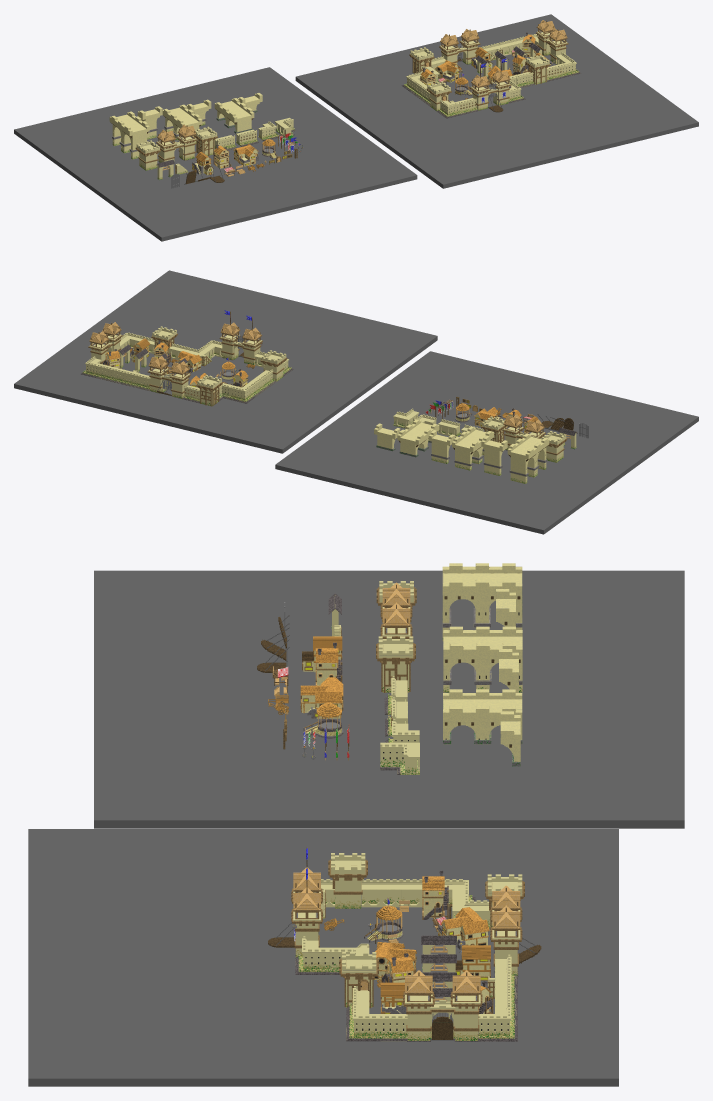
The model's file is Medieval_Voxel_Assets_Example.glb.
The picture shows the model from 3 angles, top to bottom: view 1: azimuth 30°, elevation 25°; view 2: azimuth 150°, elevation 25°; view 3: azimuth 270°, elevation 25°; orthographic projection. The views are drawn at different scales.
Parts seen in each view (by area): view 1: Complete Example, Cube, Bridge_Big_Body, Wall_Entrance, Bridge_Low_Body, Bridge_Medium_Body, Tower_Simple, Tower_Complex, Bridge_Big_In_Out, House_1; view 2: Complete Example, Cube, Bridge_Big_Body, Bridge_Medium_Body, Bridge_Low_Body, Wall_Entrance, Bridge_Big_In_Out, Bridge_Medium_In_Out, Tower_Simple, Bridge_Low_In_Out, Tower_Complex; view 3: Complete Example, Cube, Bridge_Big_Body, Bridge_Medium_Body, Bridge_Low_Body, Tower_Complex, Wall_Entrance, House_1, Wall_L_Int, Bridge_Low_In_Out, House_3, Kiosk.
Part boxes in pixels (left/top/right/bottom): Complete Example: left=295, top=14, right=698, bottom=188; Cube: left=14, top=67, right=417, bottom=241; Bridge_Big_Body: left=109, top=111, right=149, bottom=159; Wall_Entrance: left=156, top=124, right=197, bottom=162; Bridge_Low_Body: left=214, top=98, right=254, bottom=133; Bridge_Medium_Body: left=162, top=104, right=202, bottom=143; Tower_Simple: left=135, top=140, right=160, bottom=170; Tower_Complex: left=195, top=126, right=217, bottom=155; Bridge_Big_In_Out: left=137, top=106, right=162, bottom=139; House_1: left=233, top=144, right=258, bottom=166; Complete Example: left=14, top=270, right=437, bottom=453; Cube: left=275, top=351, right=698, bottom=534; Bridge_Big_Body: left=507, top=433, right=549, bottom=483; Bridge_Medium_Body: left=452, top=426, right=493, bottom=470; Bridge_Low_Body: left=397, top=419, right=439, bottom=457; Wall_Entrance: left=502, top=414, right=545, bottom=450; Bridge_Big_In_Out: left=481, top=436, right=507, bottom=475; Bridge_Medium_In_Out: left=428, top=430, right=454, bottom=463; Tower_Simple: left=541, top=431, right=567, bottom=462; Bridge_Low_In_Out: left=374, top=423, right=400, bottom=451; Tower_Complex: left=481, top=416, right=506, bottom=442; Complete Example: left=28, top=829, right=618, bottom=1086; Cube: left=94, top=570, right=684, bottom=828; Bridge_Big_Body: left=442, top=563, right=522, bottom=640; Bridge_Medium_Body: left=443, top=626, right=522, bottom=692; Bridge_Low_Body: left=443, top=689, right=522, bottom=744; Tower_Complex: left=376, top=636, right=415, bottom=692; Wall_Entrance: left=380, top=582, right=412, bottom=638; House_1: left=300, top=677, right=343, bottom=719; Wall_L_Int: left=380, top=742, right=419, bottom=774; Bridge_Low_In_Out: left=500, top=711, right=520, bottom=766; House_3: left=315, top=642, right=342, bottom=685; Kiosk: left=303, top=702, right=343, bottom=738.
Bounding box in the file's own units: 182 × 15.79 × 99.14.
Materials: 54 (52 with a texture image).
